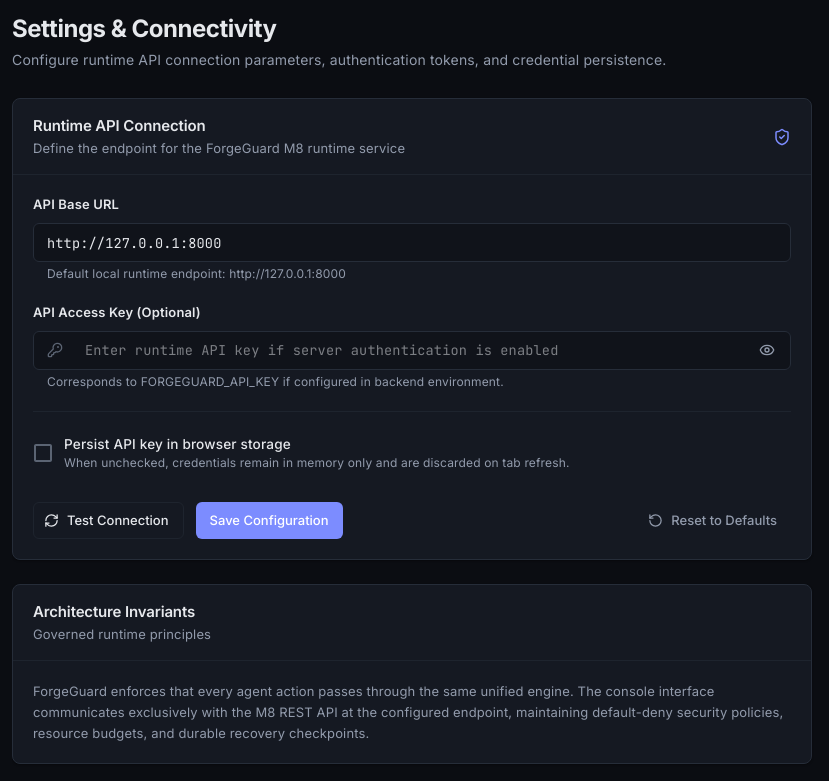
Test: SettingsPage › resets configuration back to defaults when reset is clicked
The image size is (829, 781).
Type "http://custom-api-host:9999" into the field named "api base url" at (412, 242), box [33,223,791,262]
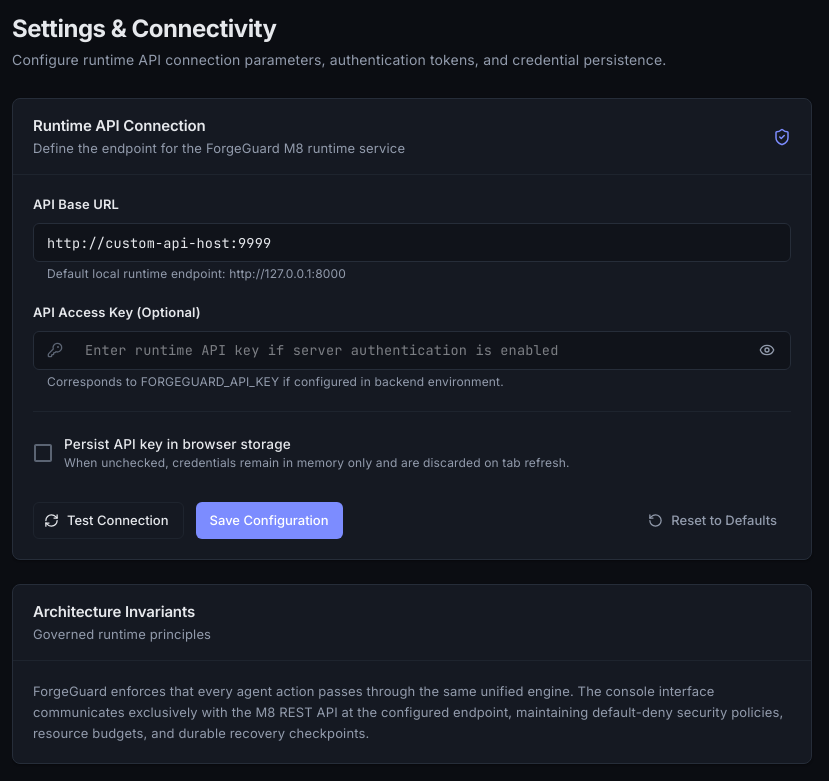
Click the button "Reset to Defaults" at (715, 520), box [638,502,791,539]
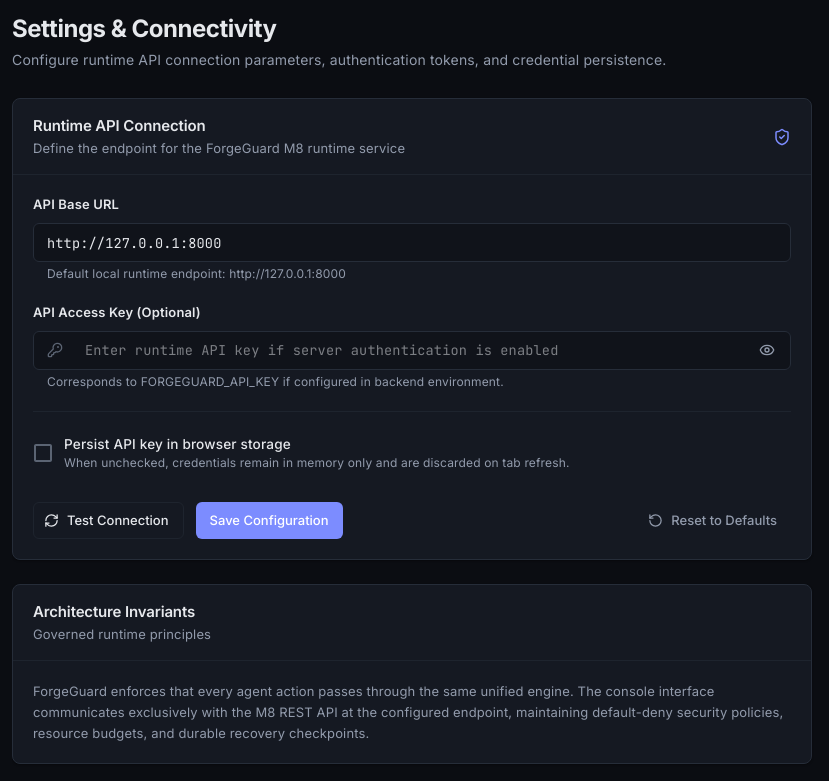
Result: the field named "api base url" holds "http://127.0.0.1:8000" at [33,223,791,262]
